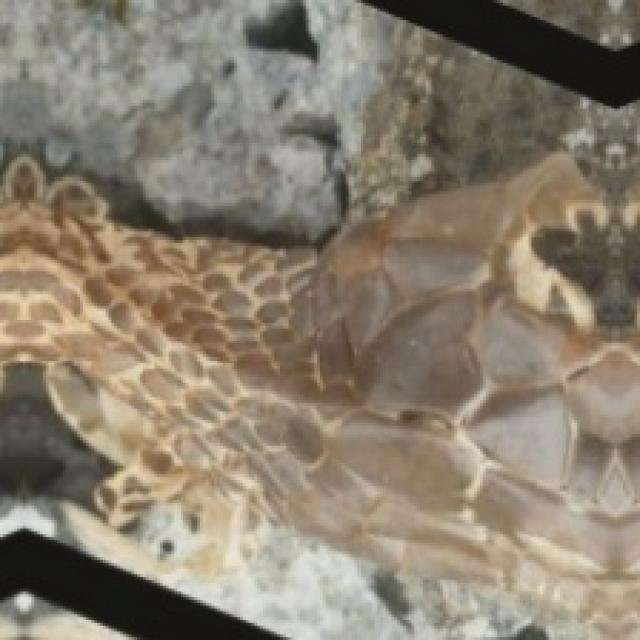philippine cobra: (0, 154, 637, 637)
